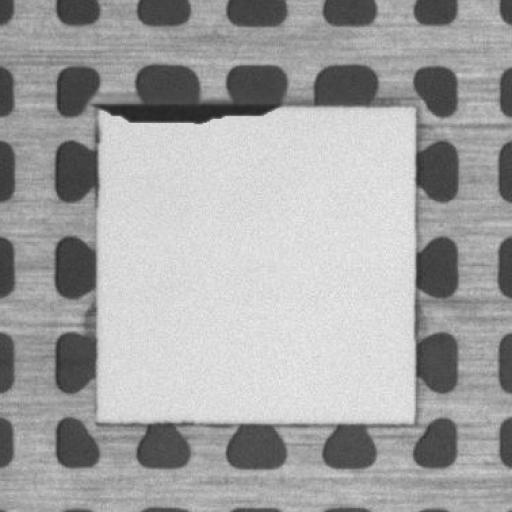DIE_BROKEN: (102, 95, 280, 127)
